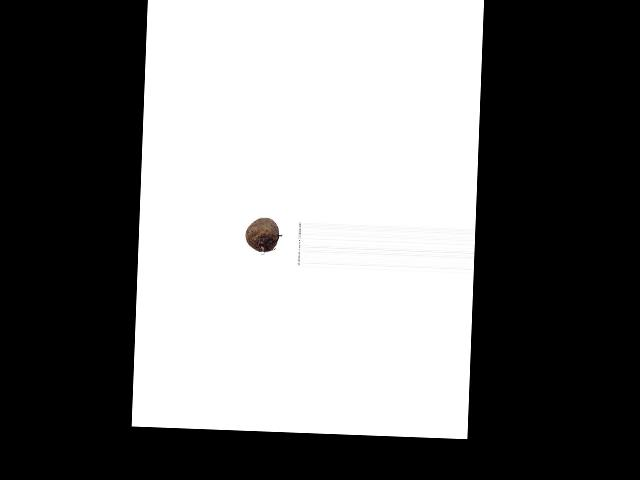beet: (245, 216, 279, 251)
